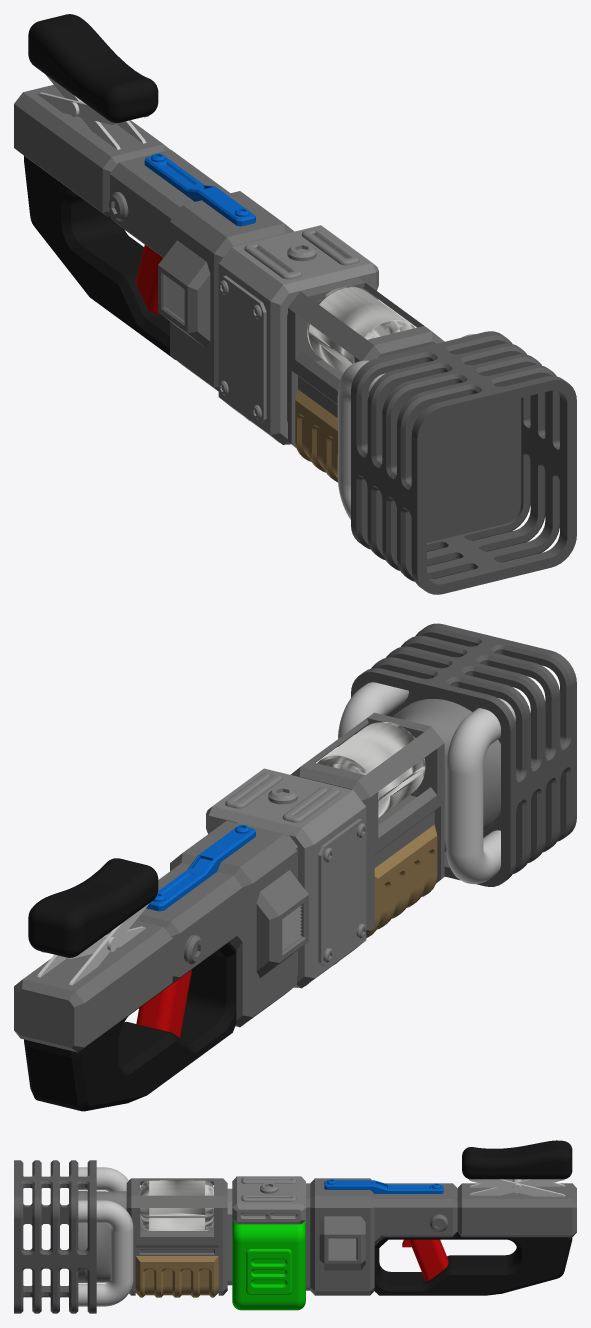
The model's file is bfg9000.obj.
The picture shows the model from 3 angles, top to bottom: view 1: azimuth 30°, elevation 25°; view 2: azimuth 150°, elevation 25°; view 3: azimuth 270°, elevation 25°; orthographic projection. The views are drawn at different scales.
Parts seen in each view (by area): view 1: Barrel; view 2: Barrel; view 3: Barrel.
Part boxes in pixels (x1=…): Barrel: x1=14, y1=14, x2=576, y2=594; Barrel: x1=14, y1=623, x2=576, y2=1111; Barrel: x1=14, y1=1140, x2=576, y2=1313.
Size of the model in its own units: 0.125 by 0.18 by 0.6125.
